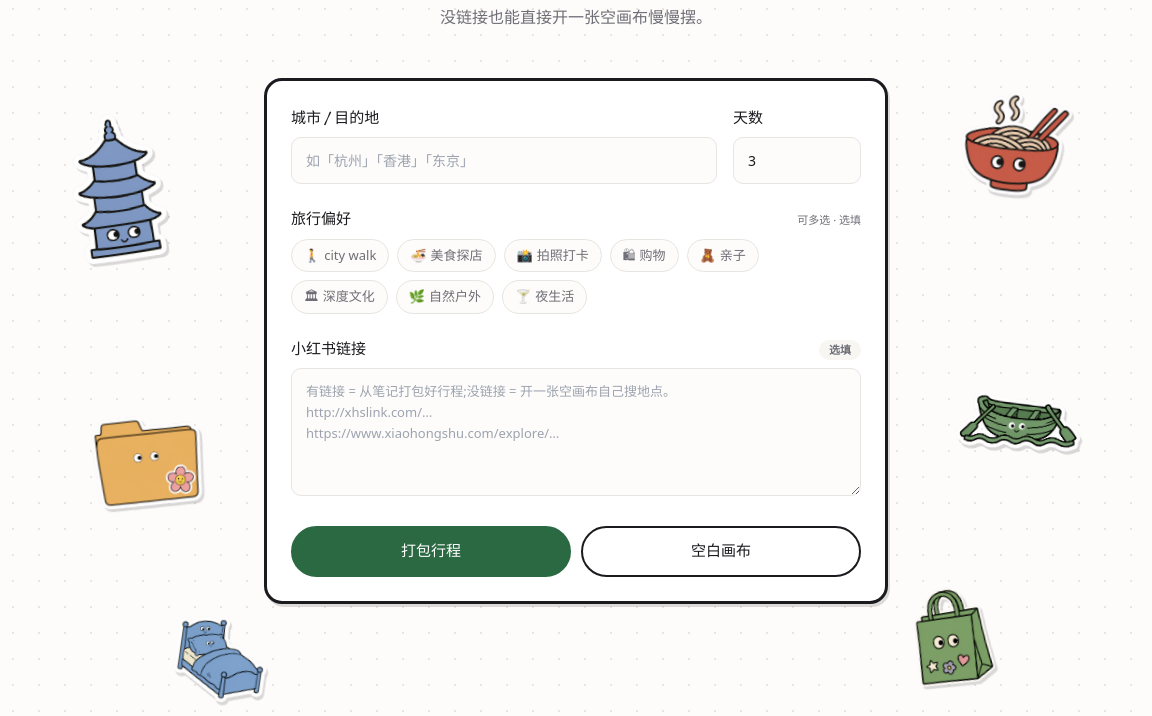
it: TripForm › keeps both CTAs clickable and explains what is missing instead of graying out
(page scrolled)
Expected: the button "打包行程" is enabled, [291,526,571,577]
Step 1. Click the button "空白画布" → (721, 551), box [581,526,861,577]
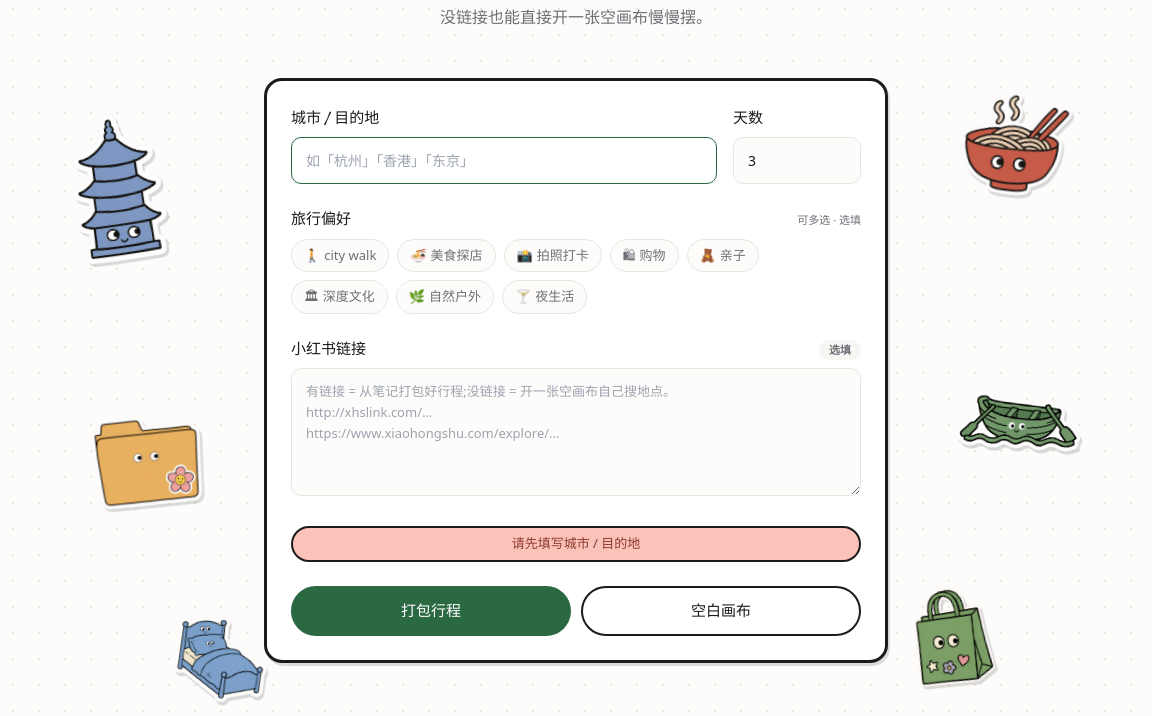
Result: the text "请先填写城市 / 目的地" is shown at [291,526,861,562]
// 有目的地但没链接:打包行程要提示缺链接并引导去空白画布
Step 2. Type "香港" into the field labelled "目的地" → (504, 161), box [291,137,717,184]
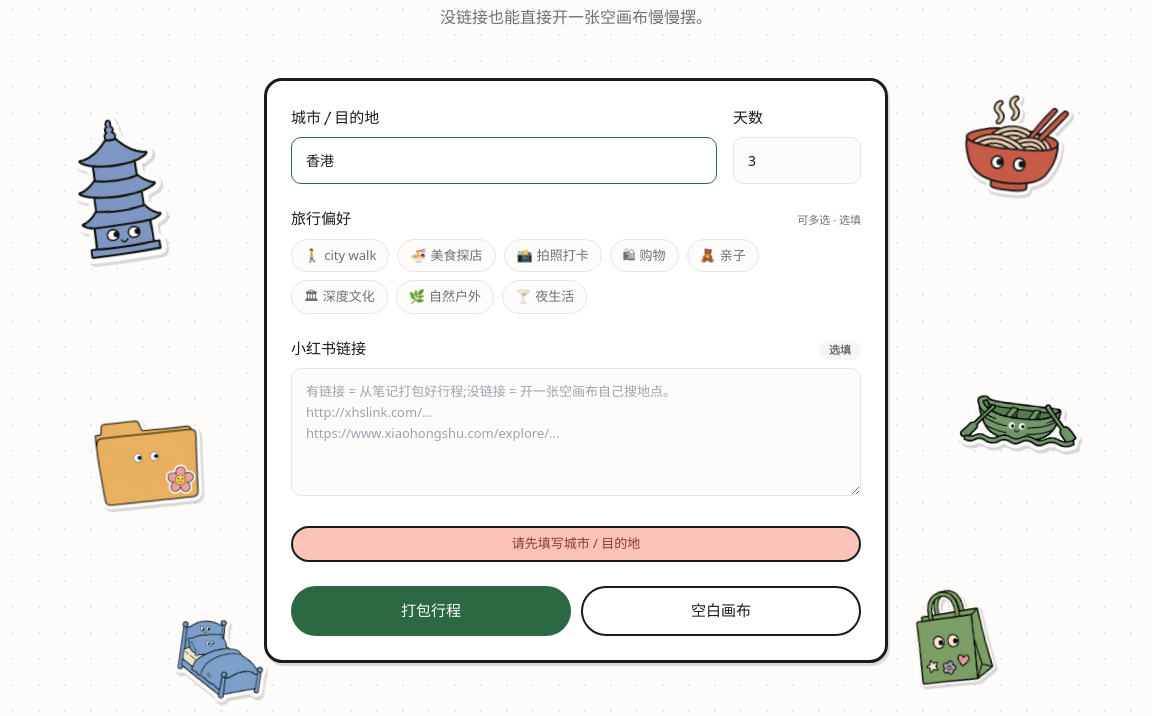
Step 3. Click the button "打包行程" → (431, 611), box [291,586,571,636]
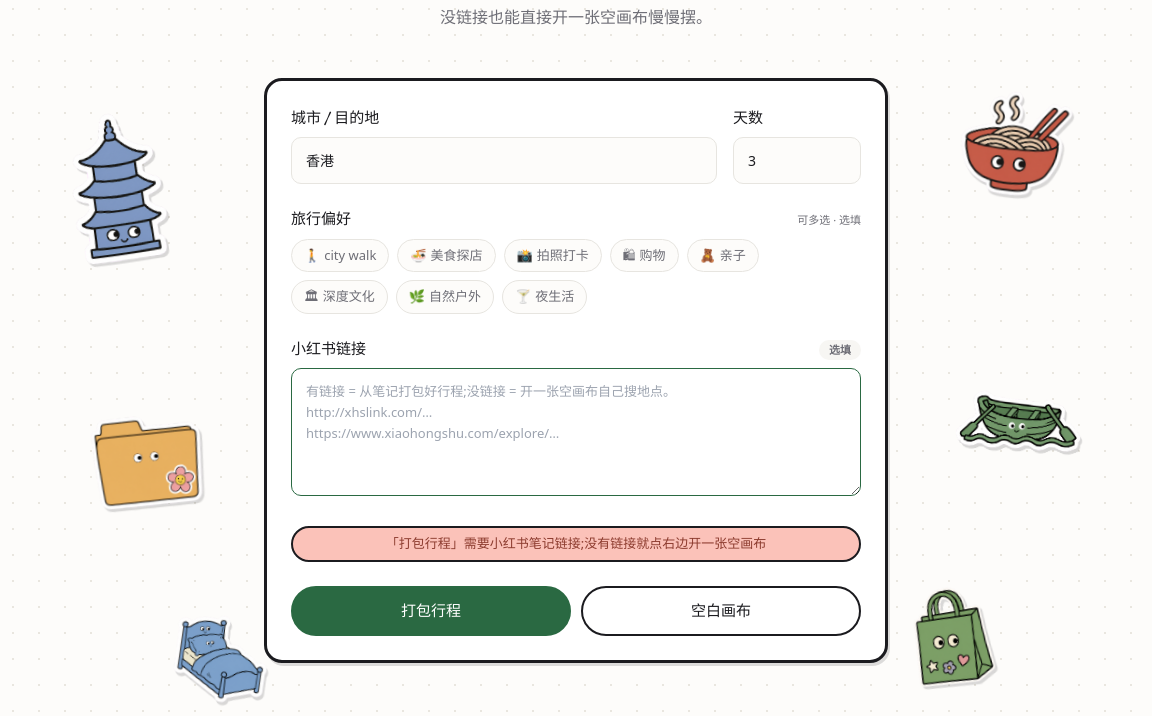
Result: the text "「打包行程」需要小红书笔记链接;没有链接就点右边开一张空画布" is shown at [291,526,861,562]
